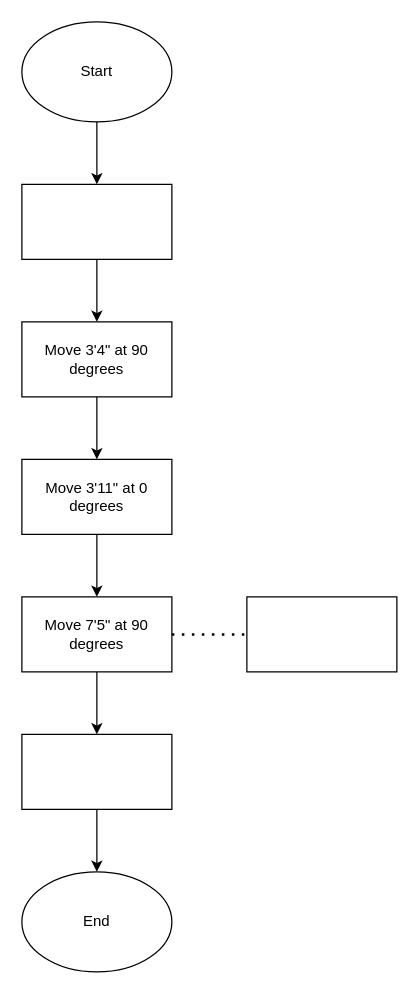
Some shapes in this 419 by 994 pixel diagram are drawn without their labels. The centre of each missing label's shape, as x and y in pixels:
Faster than previous movements so jump is completed successfully.: [321,634]
Move 3'3" at 0 degrees: [96,221]
Move at max speed at 225 degrees until pins are struck.: [96,771]
